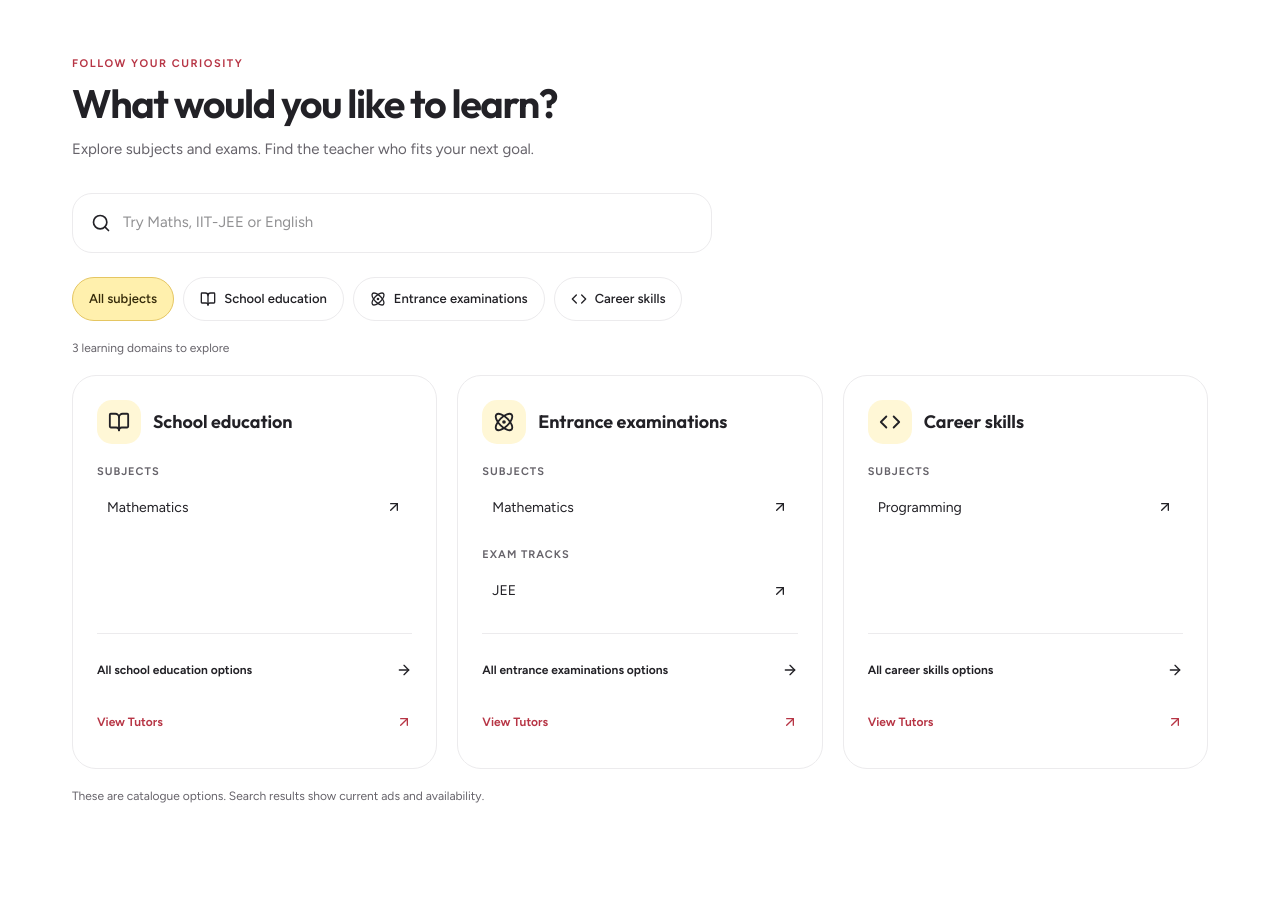
searches category labels and can show all available options without a popularity or Tutor supply claim
Later steps or results of the test are not shown.
Type "Career" into the search field at (408, 223), box [123,203,693,242]
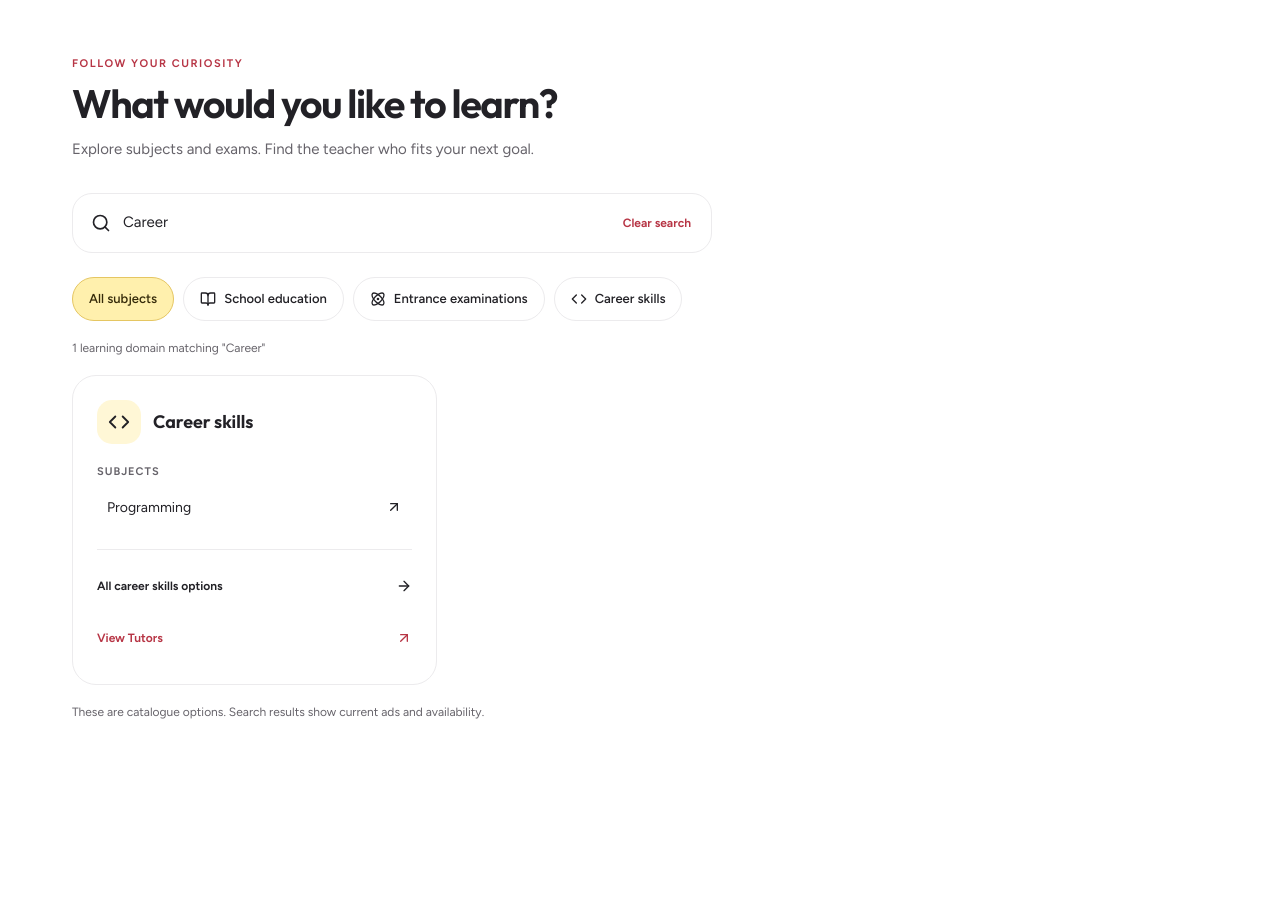
Expected: the link "Programming" is shown, [107,499,402,516]
Click the button "Clear search" at (657, 223), box [621,206,693,240]
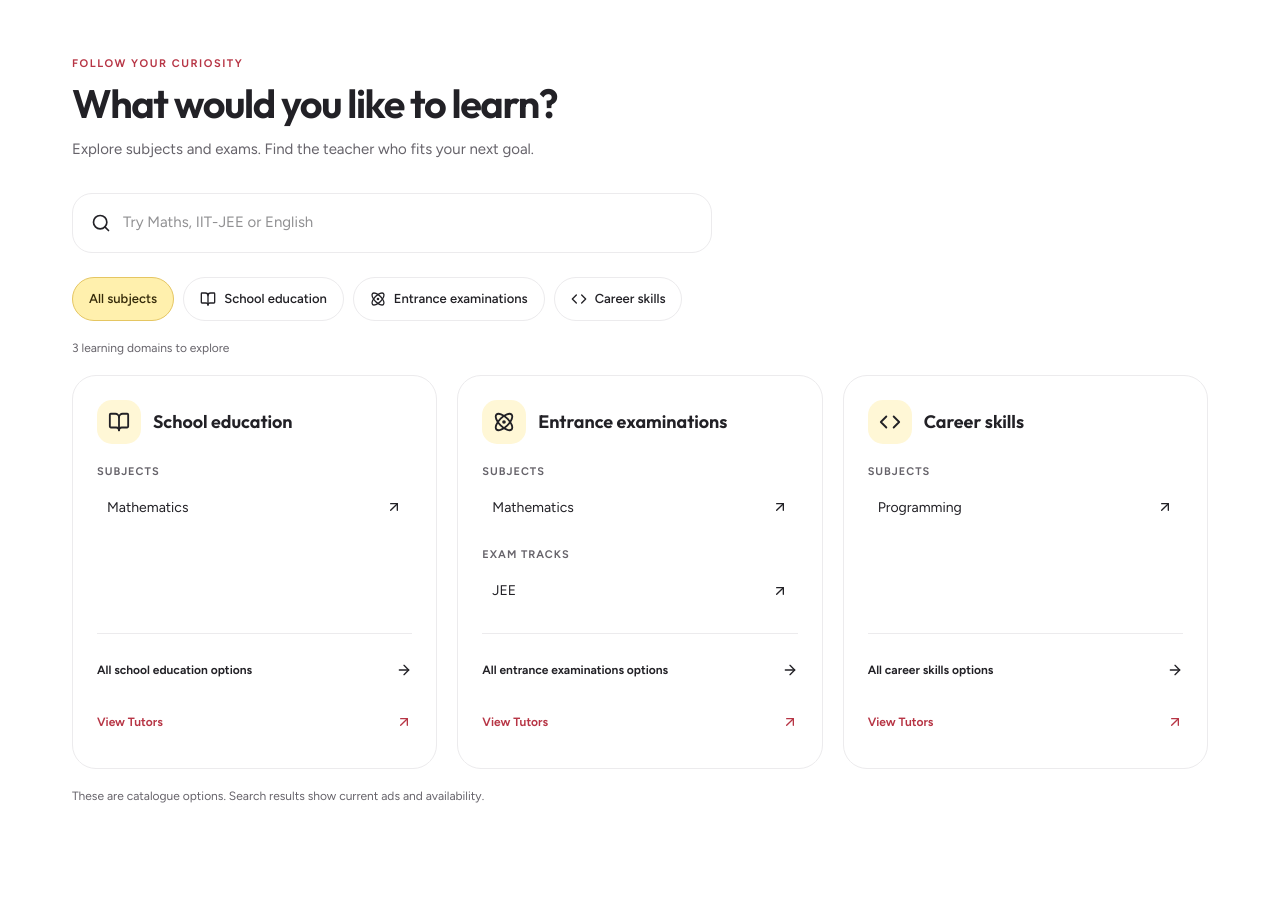
Click the button "School education" at (264, 299), box [183,277,344,321]
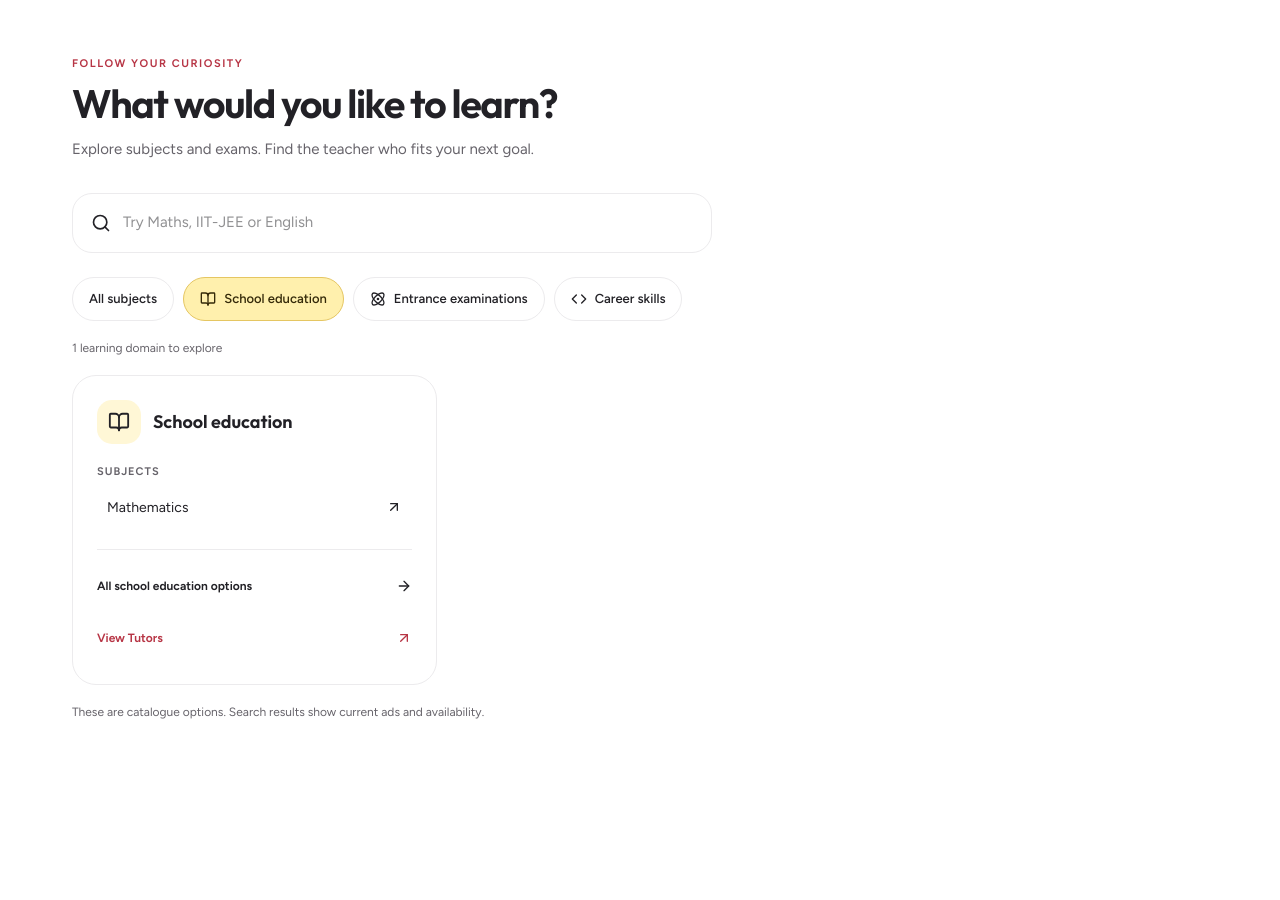
Now the button "School education" is pressed, box [183,277,344,321]
